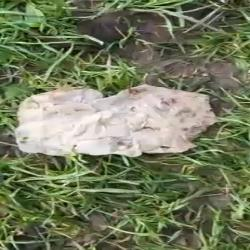Restaffald: (15, 84, 217, 158)
